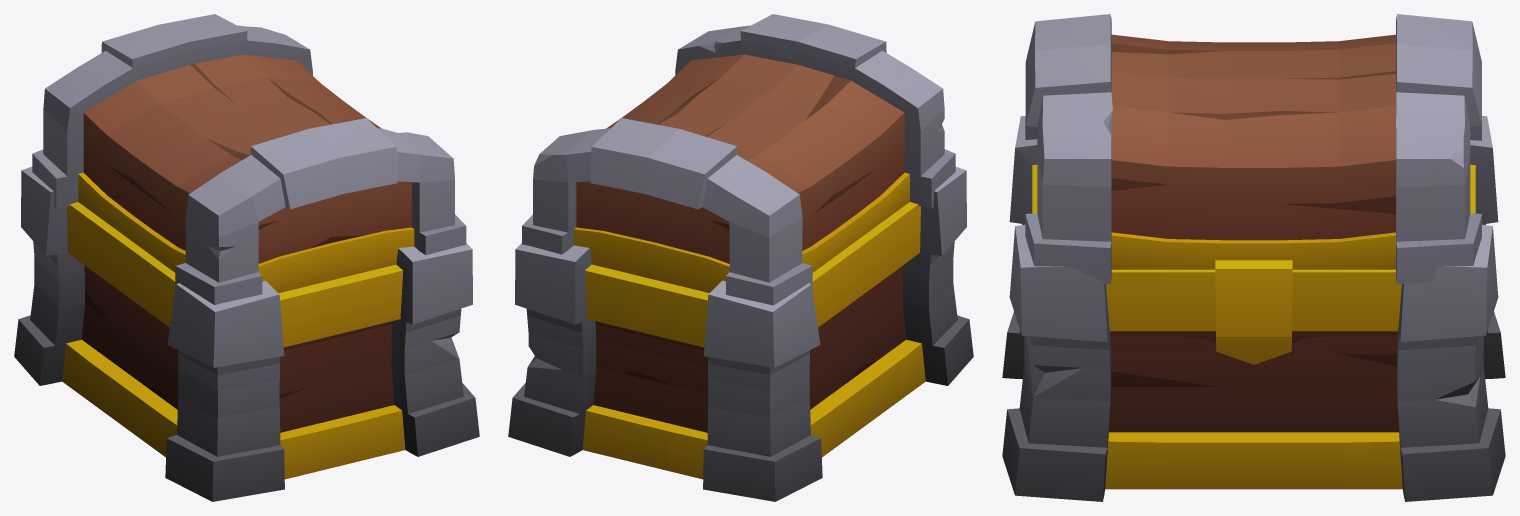
File: common-chest.fbx
The picture shows the model from 3 angles, left to right: view 1: azimuth 30°, elevation 25°; view 2: azimuth 150°, elevation 25°; view 3: azimuth 270°, elevation 25°; orthographic projection. The views are drawn at different scales.
Visible parts, largest first — view 1: chest-bottom, chest-top; view 2: chest-bottom, chest-top; view 3: chest-bottom, chest-top.
Part boxes in pixels (x1,y1,x2,y2): chest-bottom: (14,166,479,501); chest-top: (32,14,466,305); chest-bottom: (508,167,973,501); chest-top: (522,14,955,305); chest-bottom: (1002,116,1505,501); chest-top: (1025,14,1481,284).
Size of the model in its own units: 324 by 333 by 406.
